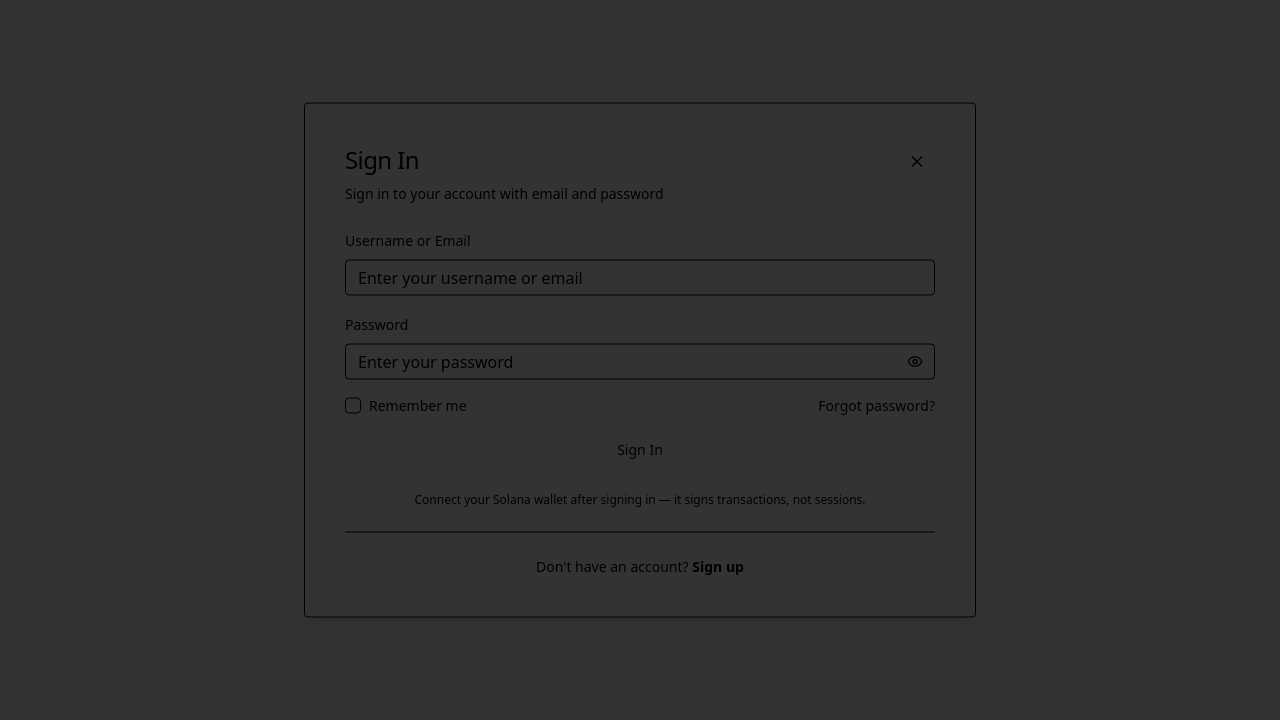
Test: WalletModal email sign-in failure › clears the inline error on a retry that verifies as unverified-email
In the field labelled "Username or Email": (640, 278) 345,260 -> 935,296, type "testuser"
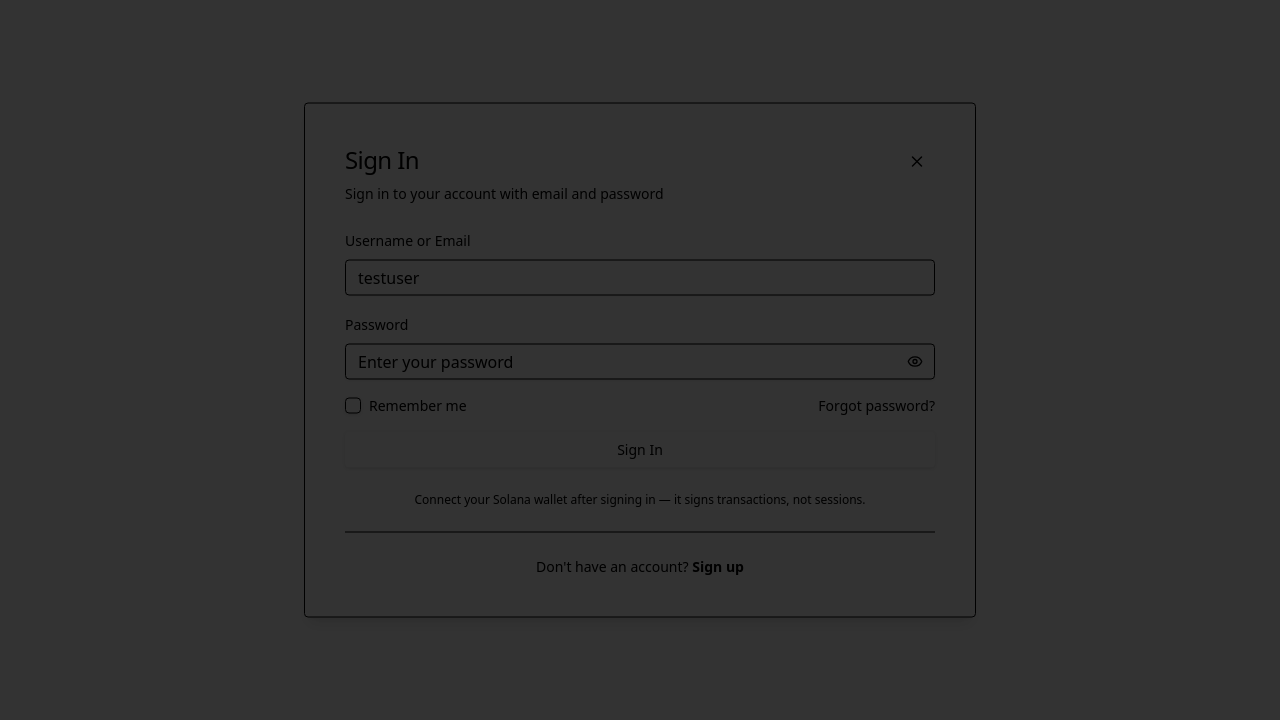
In the password field labelled "Password": (640, 362) 345,344 -> 935,380, type "wrongpassword1!"
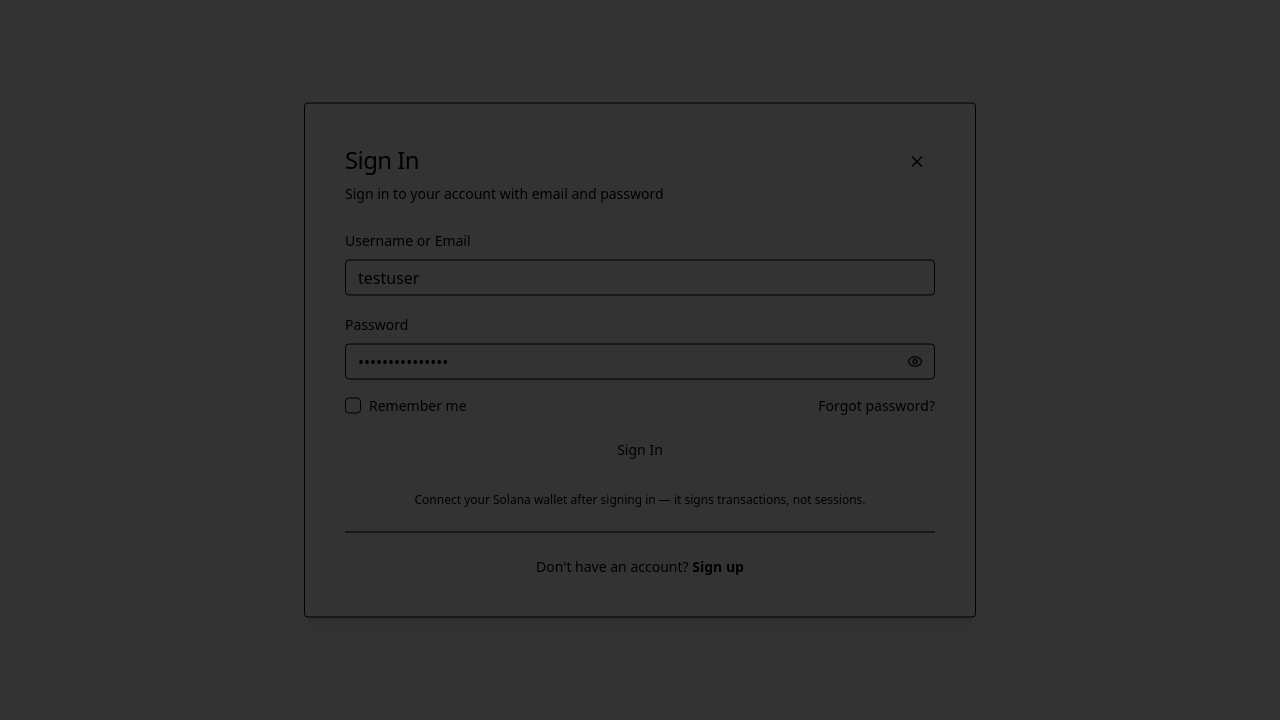
Click the button "Sign In": (640, 450) 345,432 -> 935,468
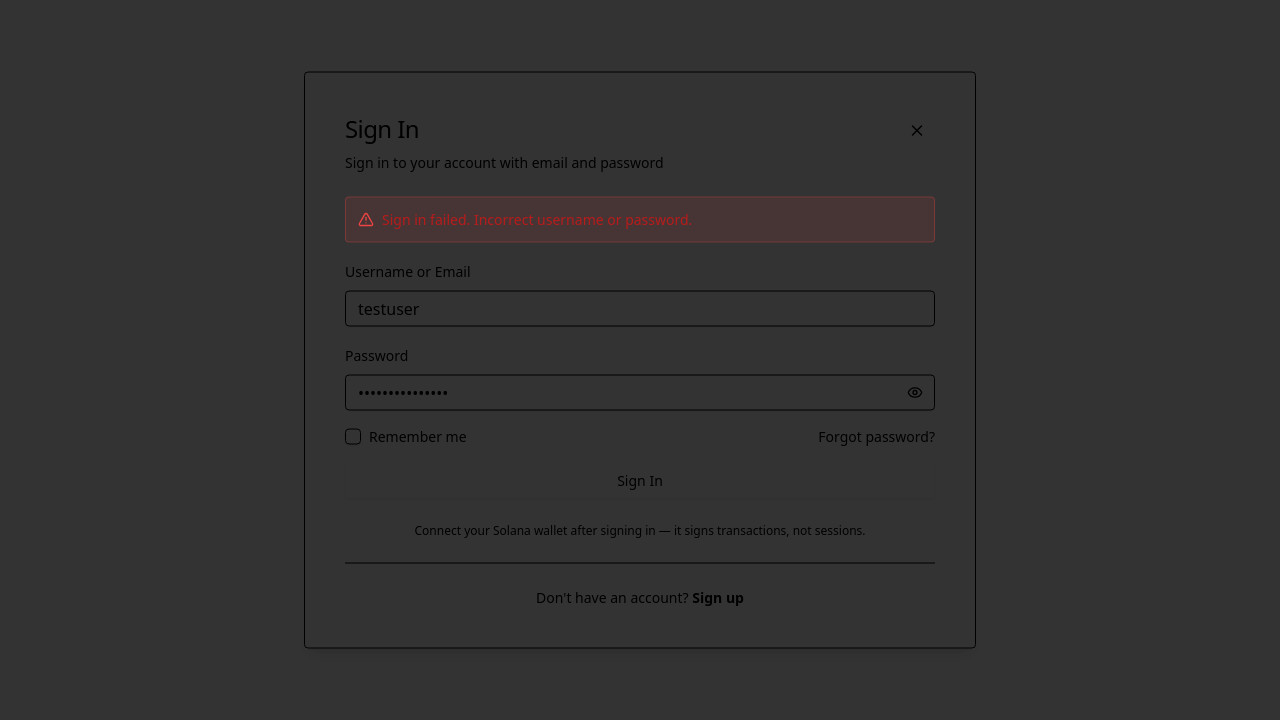
Result: the message "Sign in failed. Incorrect username or password." is shown at 345,196 -> 935,242
Click the button "Sign In": (640, 480) 345,462 -> 935,498
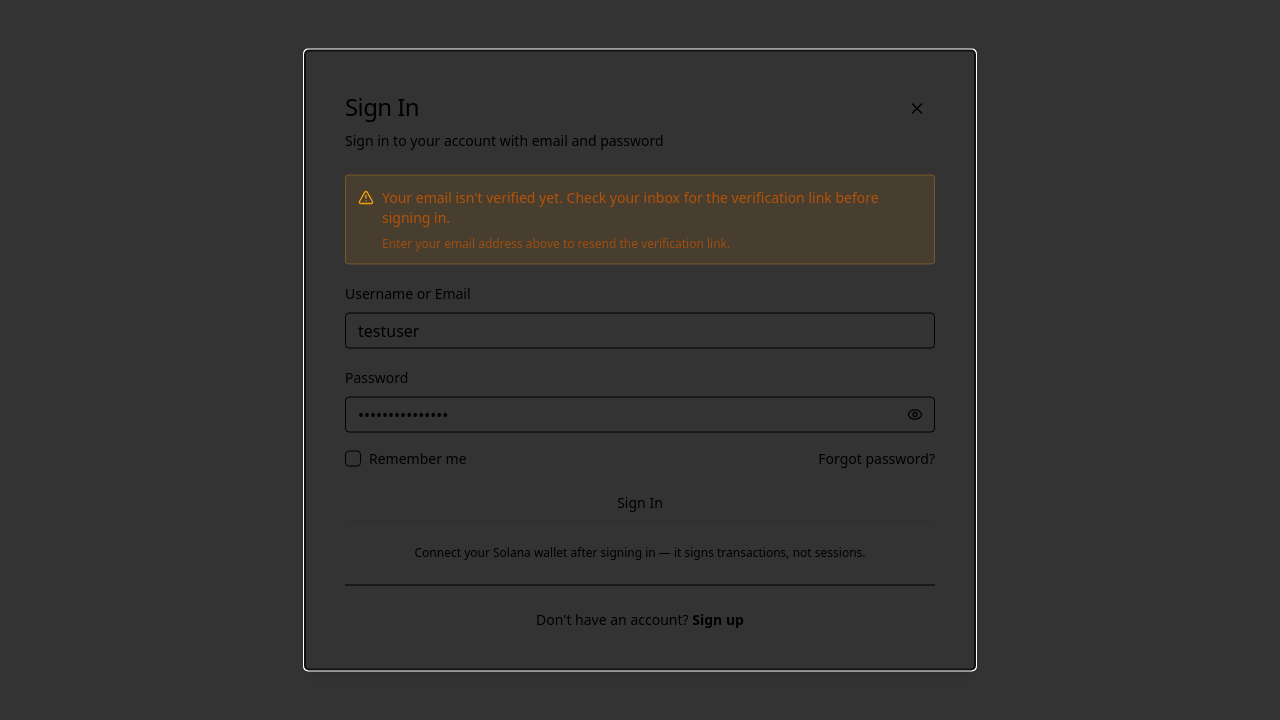
Result: the text "Your email isn't verified yet." is shown at 382,188 -> 563,206
Result: the text "Sign in failed" is gone
